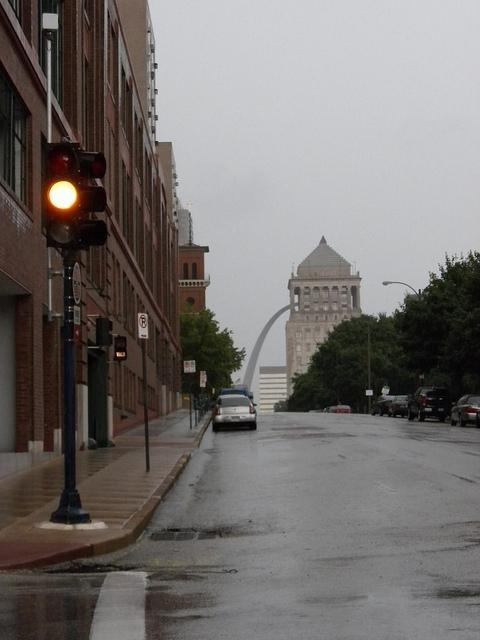car: (212, 394, 258, 433), (406, 387, 452, 422), (451, 395, 480, 426), (373, 395, 408, 418), (333, 405, 351, 413), (325, 407, 336, 412)
